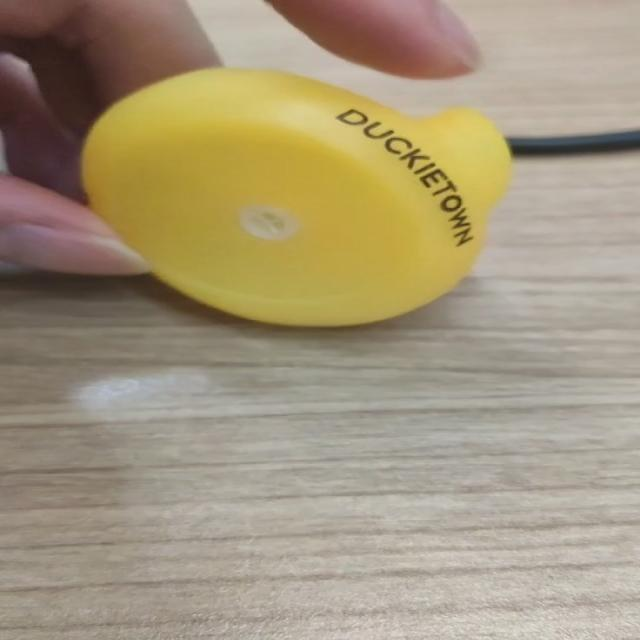rubber-duck: (81, 68, 509, 324)
